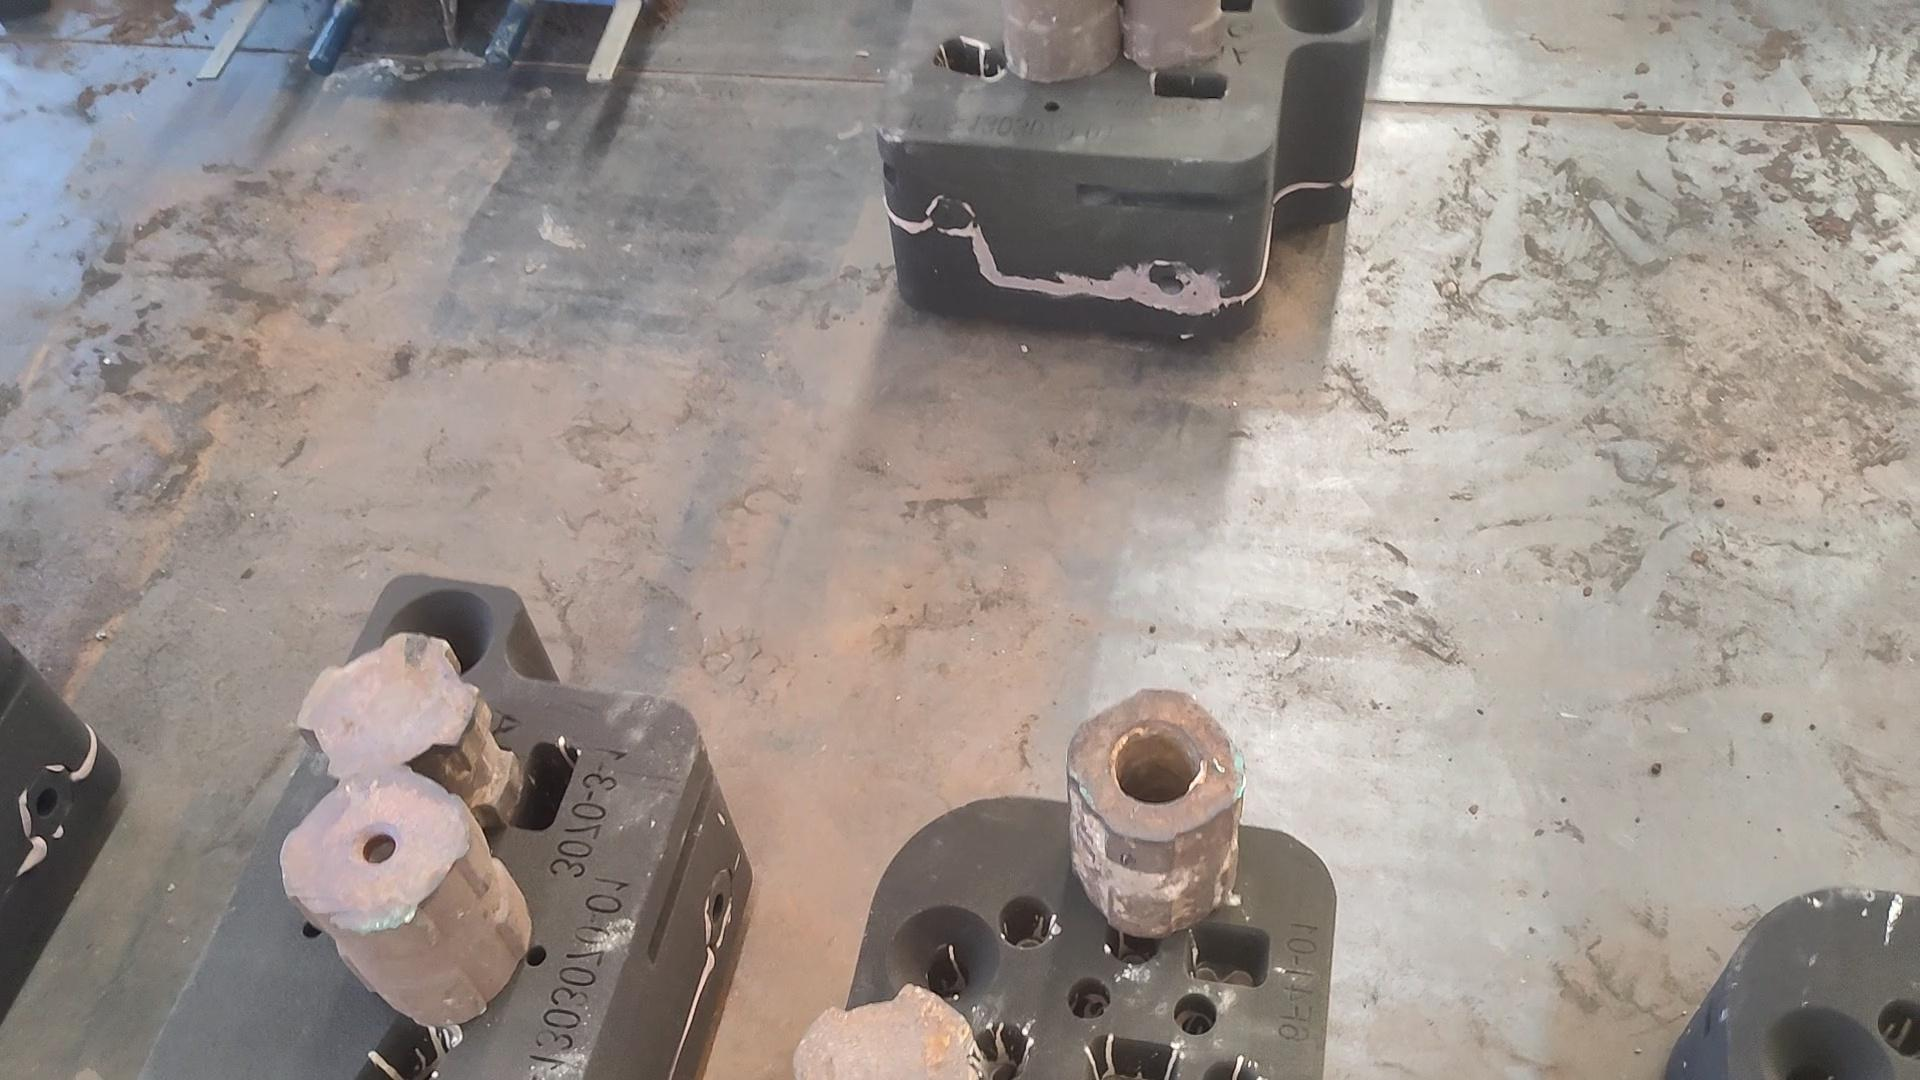pouring hole: (881, 902, 1001, 1011), (376, 585, 493, 678), (1759, 1006, 1898, 1080), (1269, 1, 1373, 33)
